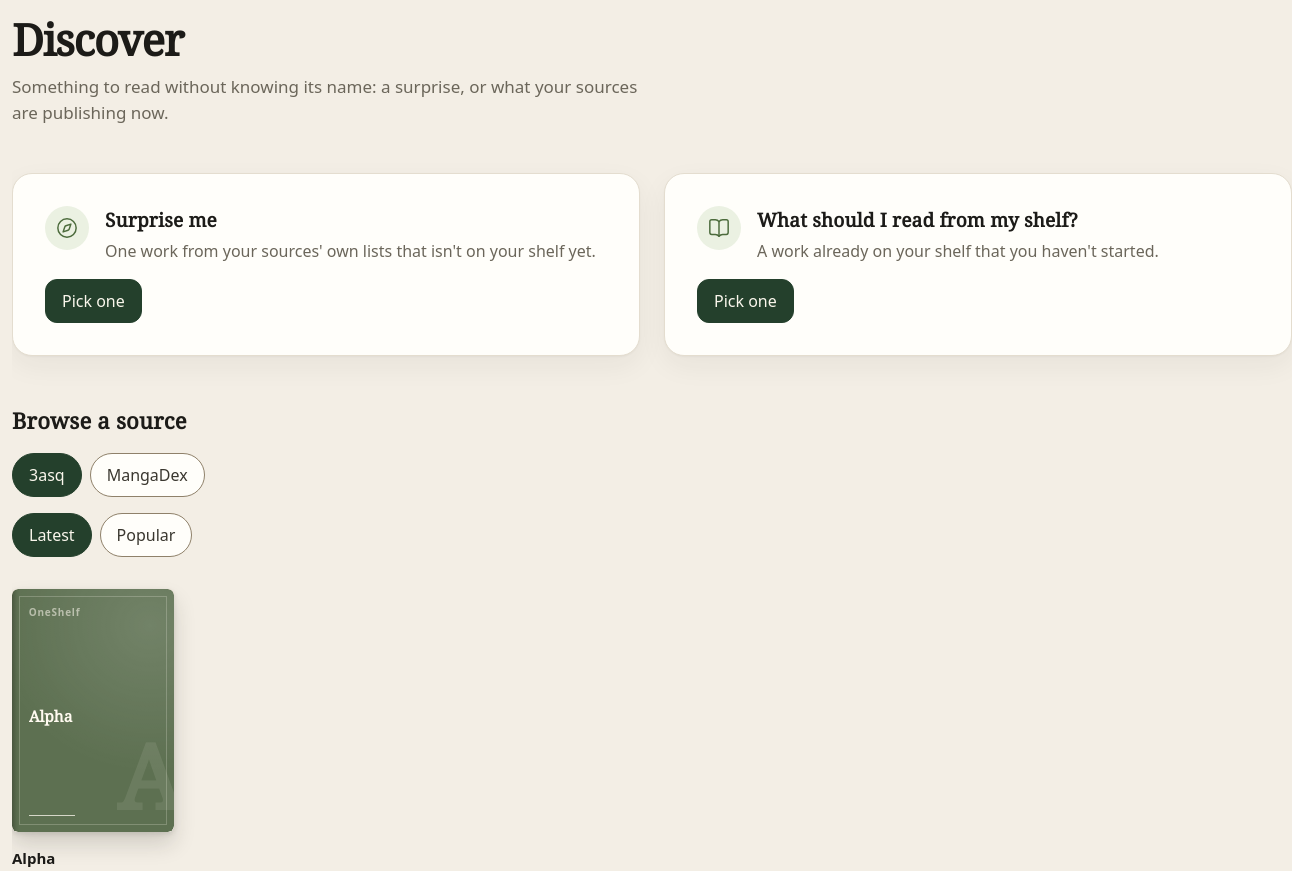
Test: Discover › surprises from the sources and says which list the work came from
Expected: the text "Alpha" is shown, [12,848,55,868]
What coordinates should you click on to do the following:
click the button "Pick one" below "Surprise me"
I would click on:
 (93, 301)
Its box is [45,279,142,323].
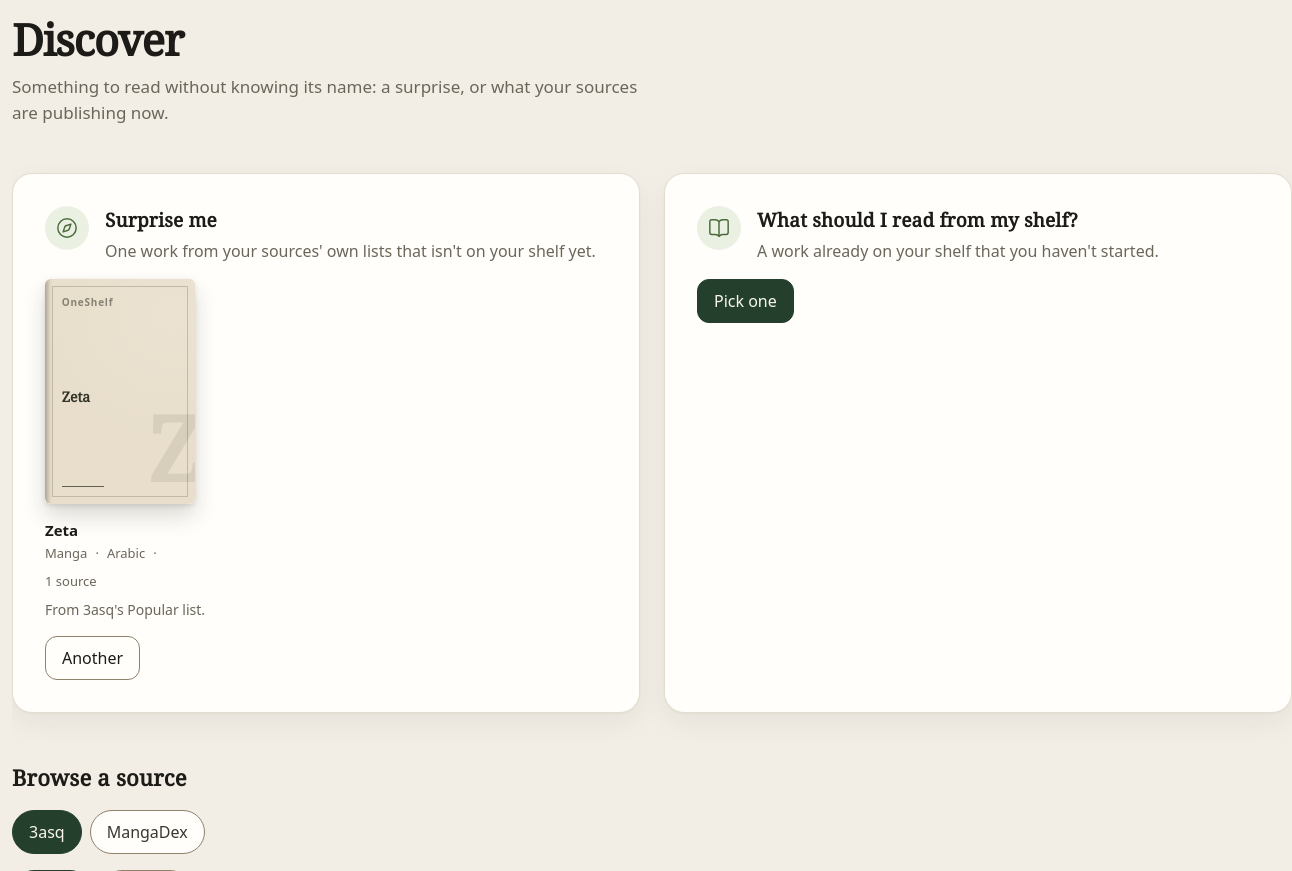
Expected: the button "Another" is enabled, [45,636,140,680]
Now the text "Zeta" is shown, box [45,520,78,540]
Now the text "From 3asq's Popular list." is shown, box [45,599,205,620]
